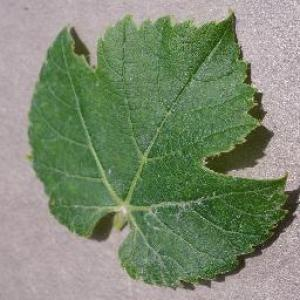Folha: (25, 8, 290, 291)
